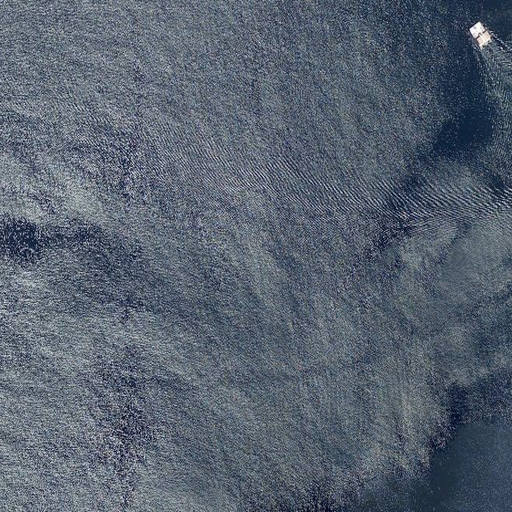ship: (469, 21, 492, 51)
